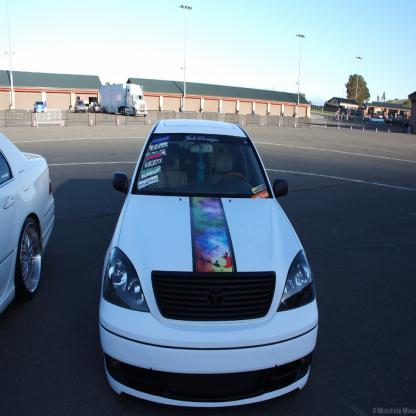Car: (97, 117, 319, 411), (0, 130, 57, 319), (33, 100, 46, 112)
